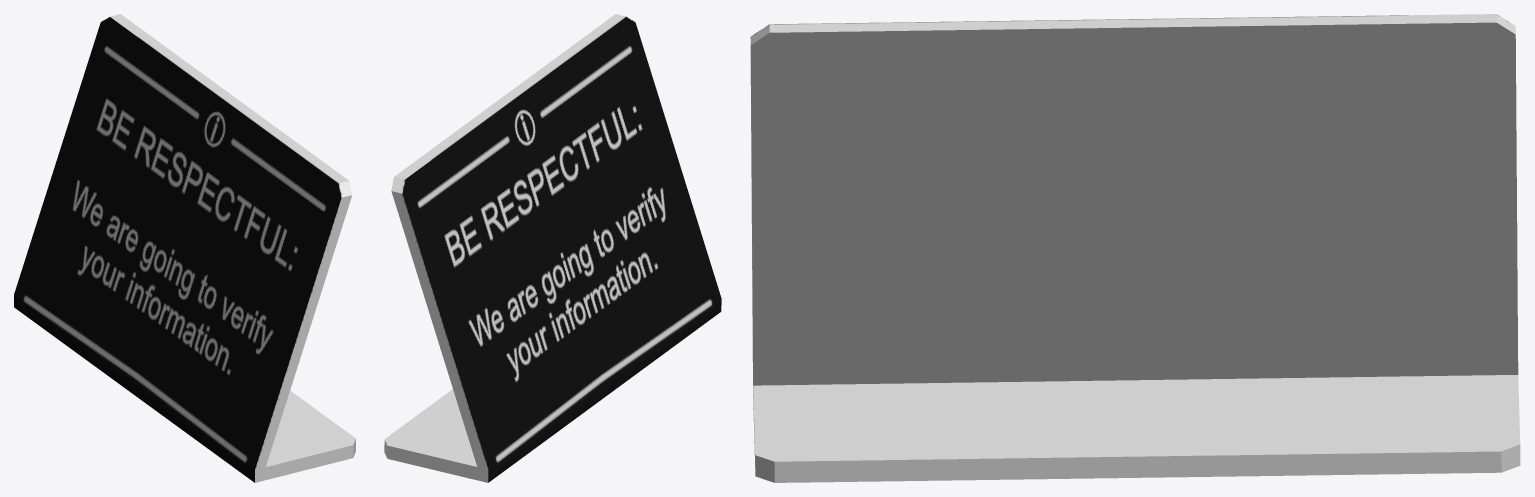
File: deskSign.glb
3 renders of one model, left to right at view 1: azimuth 30°, elevation 25°; view 2: azimuth 150°, elevation 25°; view 3: azimuth 270°, elevation 25°, orthographic. The views are drawn at different scales.
Parts seen in each view (by area): view 1: desk_sign_geo; view 2: desk_sign_geo; view 3: desk_sign_geo.
Boxes of the visible parts, x1,y1,x2,y2 form: desk_sign_geo: (14, 14, 355, 482); desk_sign_geo: (384, 14, 721, 482); desk_sign_geo: (750, 14, 1520, 482).
Size of the model in its own units: 0.0992 by 0.2339 by 0.362.
1 material, 1 textured.
